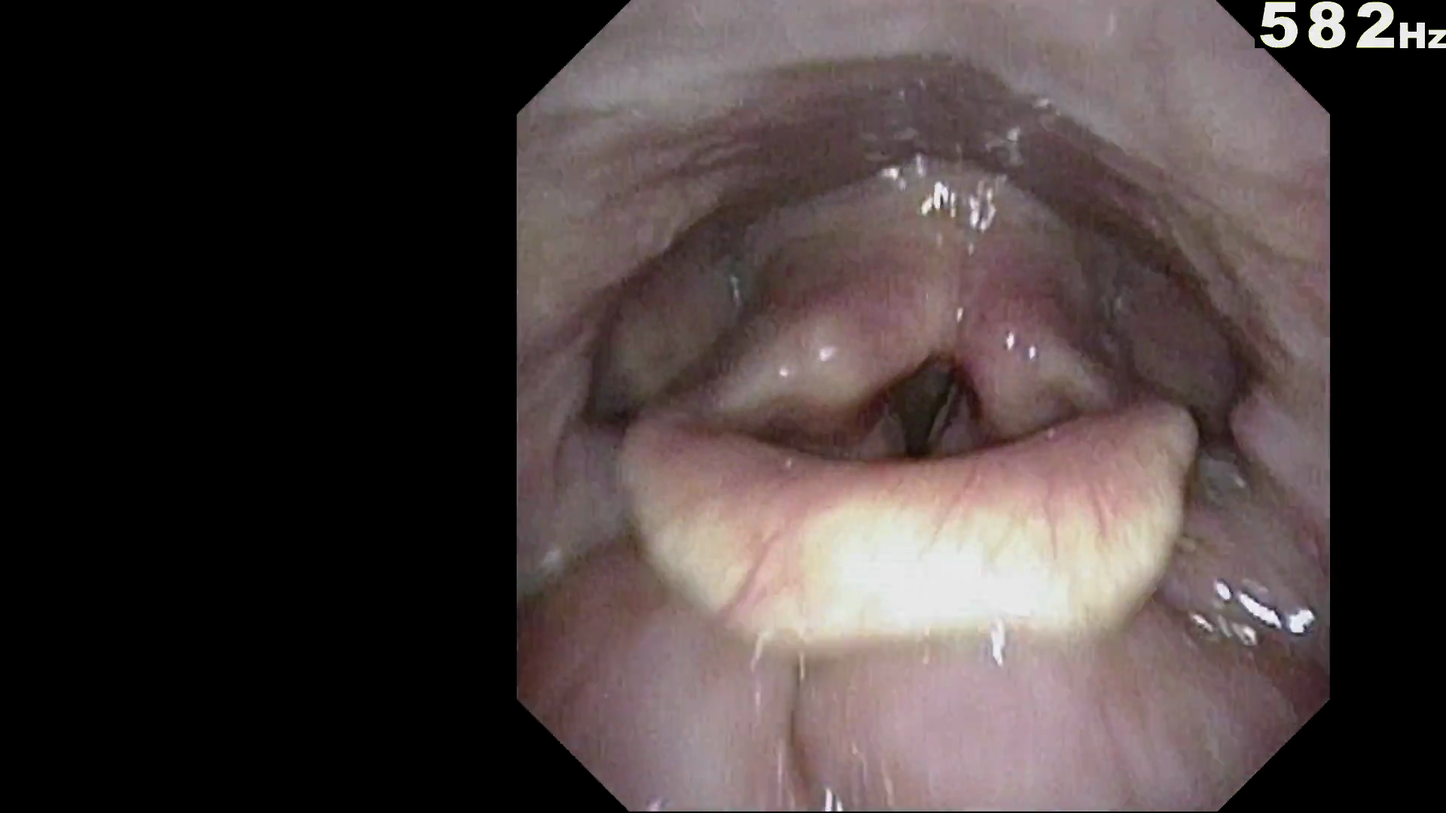epiglottis: (623, 348, 1189, 593)
trachea: (880, 330, 991, 453)
